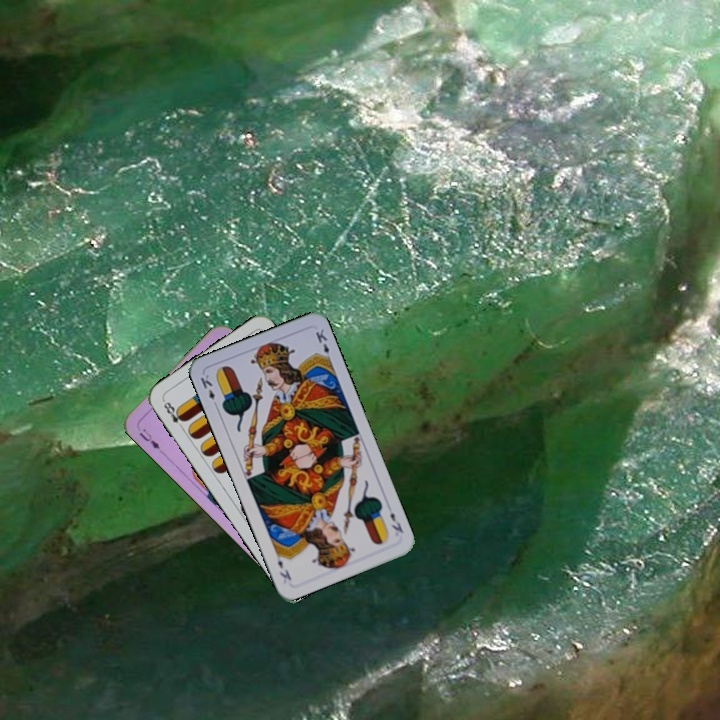E8: (159, 396, 188, 433)
EK: (196, 370, 221, 410), (386, 508, 406, 536)
EU: (133, 423, 162, 452)
